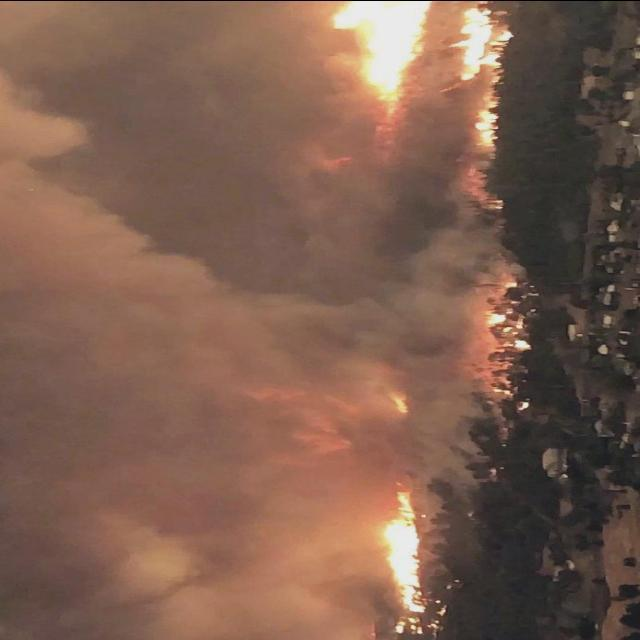Fire: (324, 1, 430, 109), (378, 490, 424, 612), (451, 9, 514, 83), (470, 105, 498, 148), (389, 616, 422, 638), (483, 312, 507, 326), (390, 395, 410, 411), (512, 337, 532, 349)
